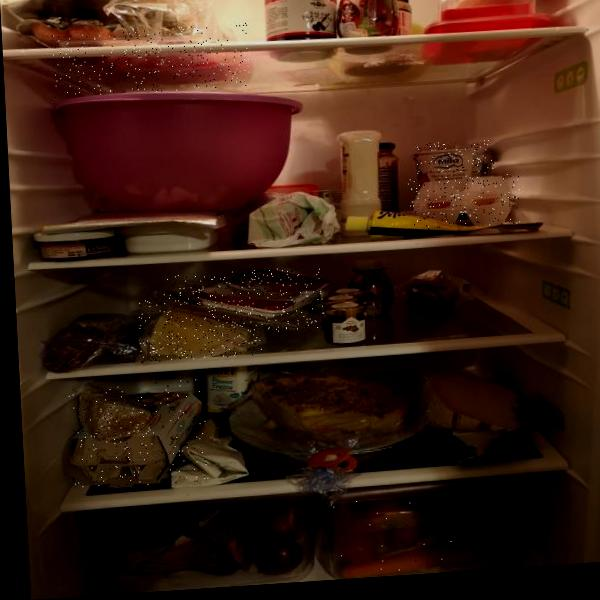carrots: (342, 537, 488, 578)
cheese: (137, 293, 262, 363), (69, 384, 154, 444)
eggs: (68, 379, 209, 490), (408, 169, 521, 230)
ham: (52, 23, 252, 99), (160, 266, 325, 339)
tomatoes: (332, 495, 441, 560)
yoghurt: (416, 139, 497, 221)
